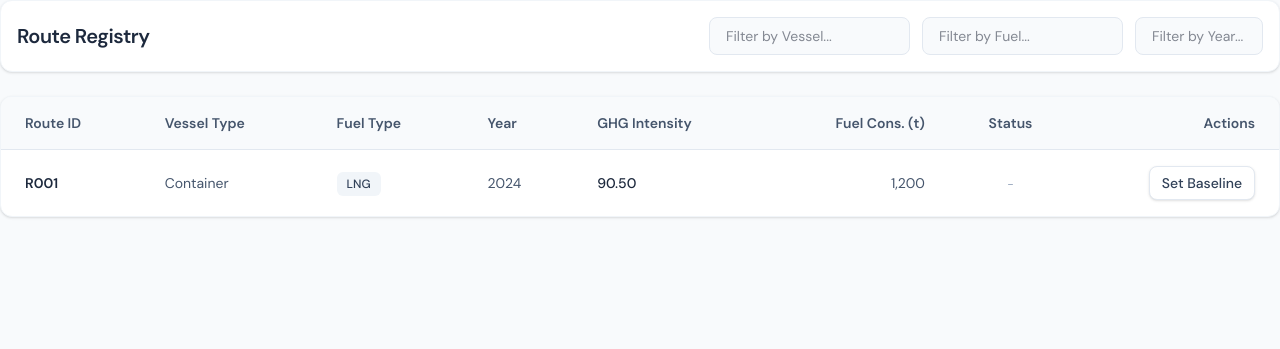
Test: RoutesTab Component › shows the empty state message when no routes match the current filters
Note: Filter by something that won't match any route
Step 1. Type "ZZZNOMATCH" into the field named "filter by vessel type" → coordinates (810, 36), box [709,17,910,55]
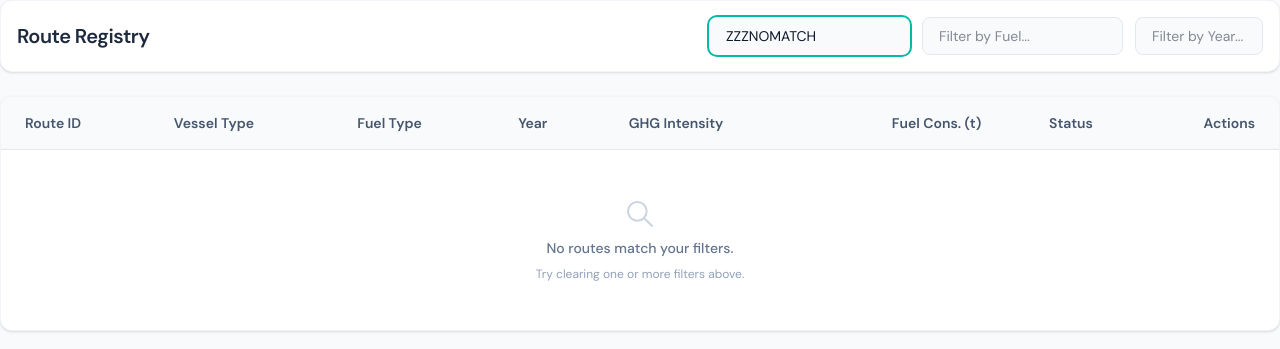
Expected: the text "No routes match your filters." is shown, [546,238,734,258]
